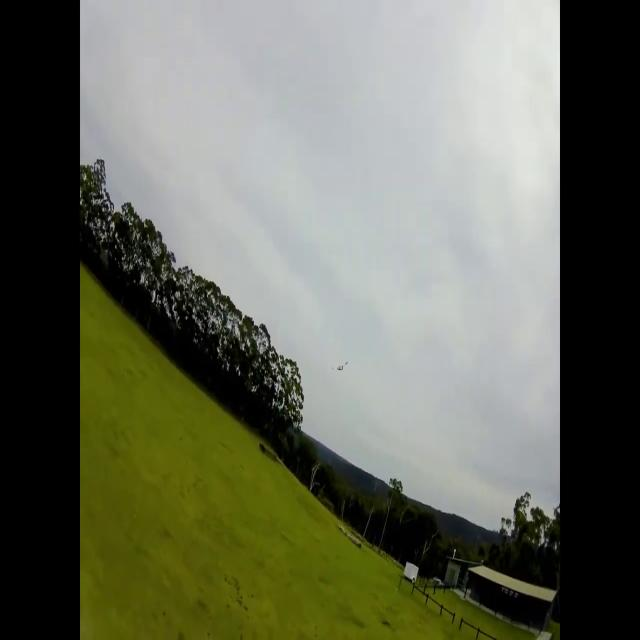iha: (330, 357, 351, 373)
